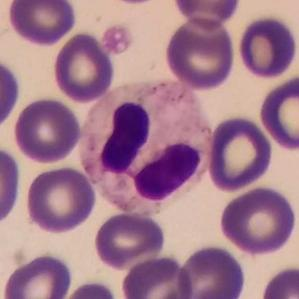Neutrophil: (74, 74, 218, 221)
Platelets: (100, 22, 134, 55)
RBC: (216, 183, 298, 258), (205, 112, 275, 194), (163, 15, 237, 92), (22, 164, 98, 235), (11, 94, 83, 166), (50, 30, 116, 104), (92, 210, 168, 270), (235, 13, 299, 81), (175, 241, 248, 299), (0, 250, 75, 299), (119, 253, 194, 299), (5, 0, 78, 47), (257, 74, 299, 152), (170, 0, 243, 29), (0, 142, 23, 229), (0, 56, 23, 133), (258, 263, 299, 299), (56, 278, 121, 299), (98, 0, 170, 6)
